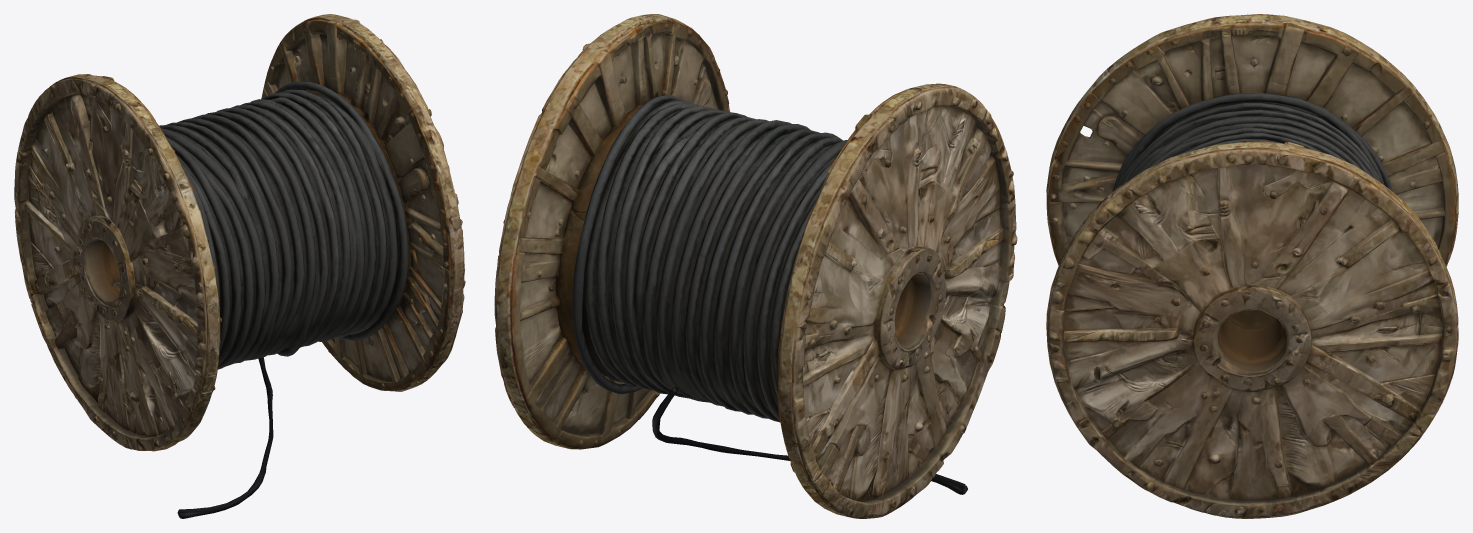
File: reel.glb
3 renders of one model, left to right at view 1: azimuth 30°, elevation 25°; view 2: azimuth 150°, elevation 25°; view 3: azimuth 270°, elevation 25°, orthographic. The views are drawn at different scales.
Size of the model in its own units: 0.7362 by 0.9778 by 0.8854.
Materials: 1 (1 with a texture image).
